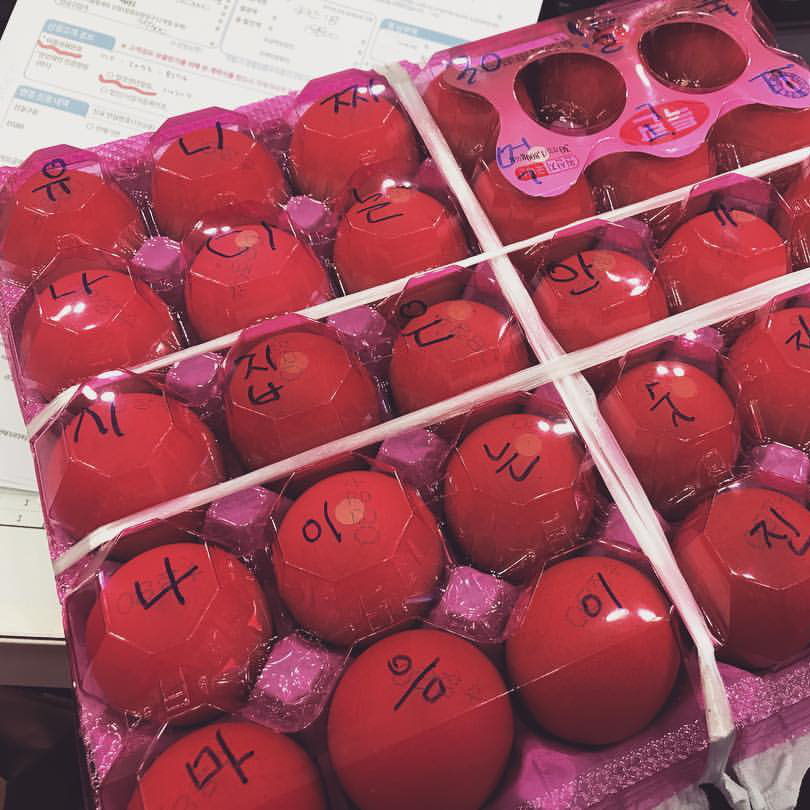egg: (4, 19, 803, 810)
